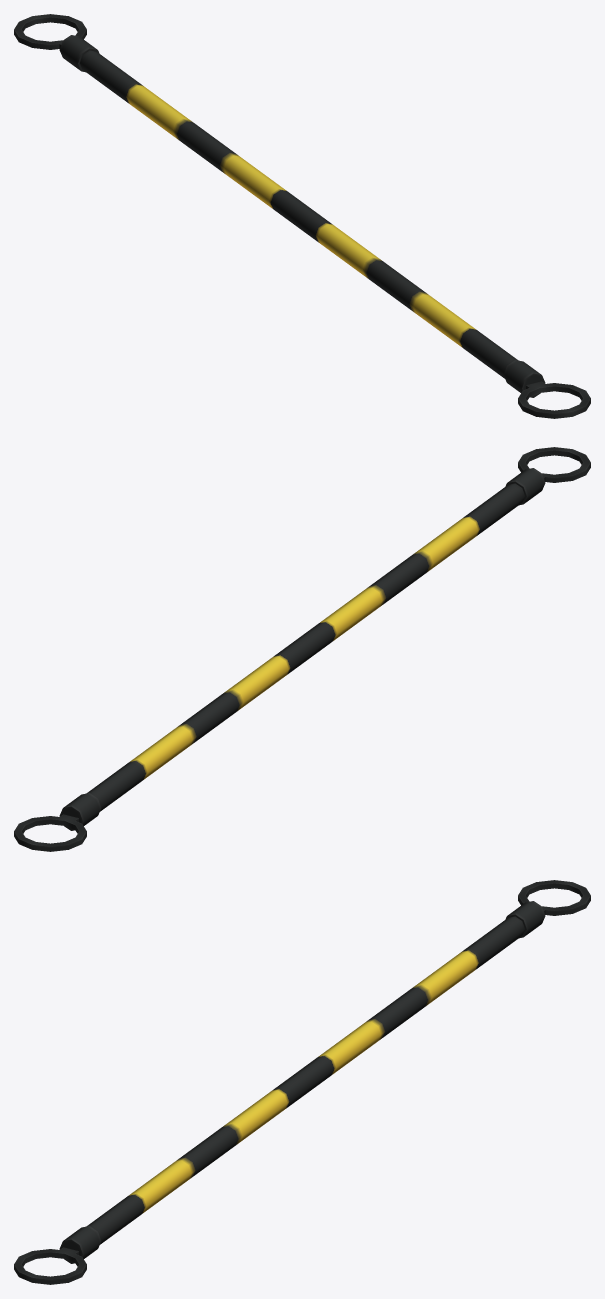
File: jsf_CornBar150cm.fbx
3 views of the same model, one above another, from view 1: azimuth 30°, elevation 25°; view 2: azimuth 150°, elevation 25°; view 3: azimuth 330°, elevation 25° (orthographic).
Visible parts, largest first — view 1: jsf_CornBar150cm; view 2: jsf_CornBar150cm; view 3: jsf_CornBar150cm.
Part boxes in pixels (<box>): jsf_CornBar150cm: <box>14,14,590,418</box>; jsf_CornBar150cm: <box>14,447,590,851</box>; jsf_CornBar150cm: <box>14,880,590,1284</box>.
Size of the model in its own units: 10.87 by 4.04 by 161.
